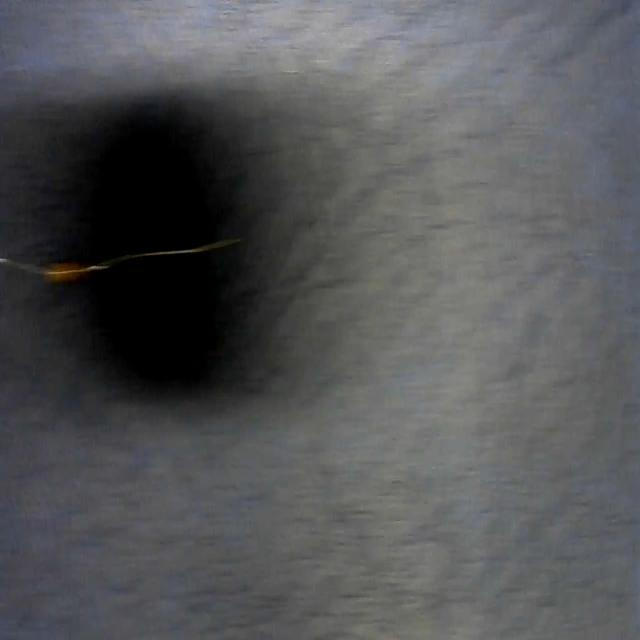resistor: (0, 238, 243, 284)
